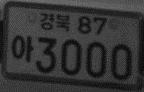0: (85, 39, 108, 79), (59, 37, 82, 76), (110, 42, 133, 81)
3: (34, 35, 57, 74)
7: (92, 16, 108, 35)
8: (77, 15, 92, 34)
경북_H: (38, 11, 71, 32)
아: (9, 33, 34, 62)
